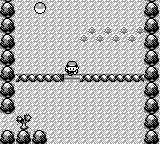main: (65, 61, 79, 75)
mo: (16, 115, 31, 130)
no-caminable: (143, 0, 160, 144), (0, 0, 16, 115), (0, 130, 47, 143)
poke-ball: (34, 2, 46, 14)
salto: (82, 74, 143, 82), (17, 74, 63, 82)
